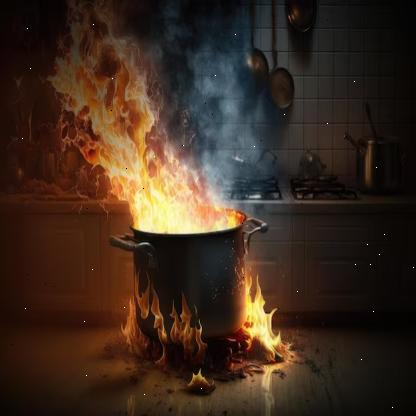fire: (28, 4, 245, 246), (116, 272, 217, 391), (238, 270, 296, 357)
smoke: (149, 2, 288, 206)
